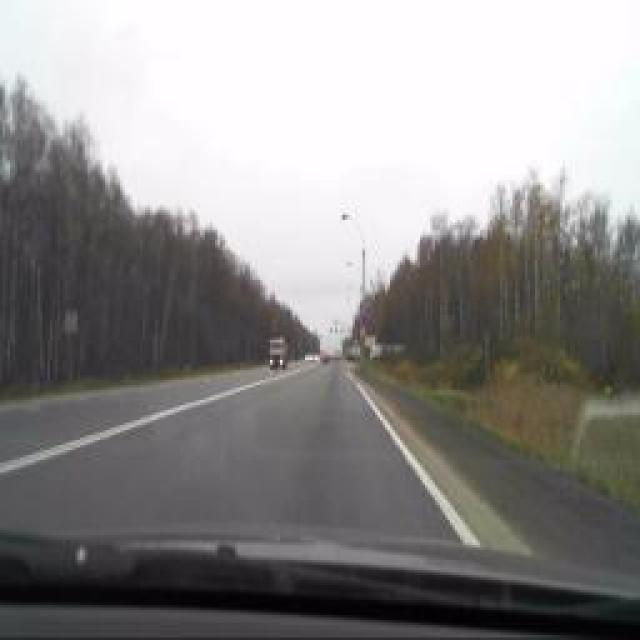sign: (360, 314, 368, 328)
